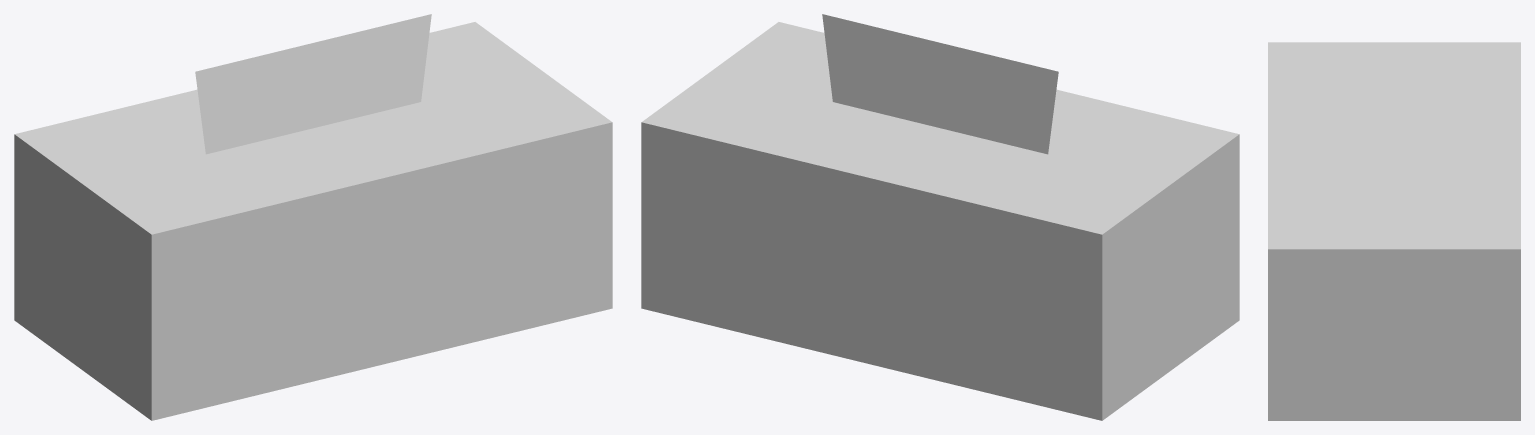
The model's file is Itr_Obj_Tissue_06.FBX.
The picture shows the model from 3 angles, left to right: view 1: azimuth 30°, elevation 25°; view 2: azimuth 150°, elevation 25°; view 3: azimuth 270°, elevation 25°; orthographic projection. The views are drawn at different scales.
Parts seen in each view (by area): view 1: Itr_Obj_Tissue_06; view 2: Itr_Obj_Tissue_06; view 3: Itr_Obj_Tissue_06.
Boxes of the visible parts, x1,y1,x2,y2 form: Itr_Obj_Tissue_06: [14, 14, 612, 420]; Itr_Obj_Tissue_06: [641, 14, 1239, 420]; Itr_Obj_Tissue_06: [1268, 42, 1520, 420].
Size of the model in its own units: 16.29 by 9.18 by 8.4.
